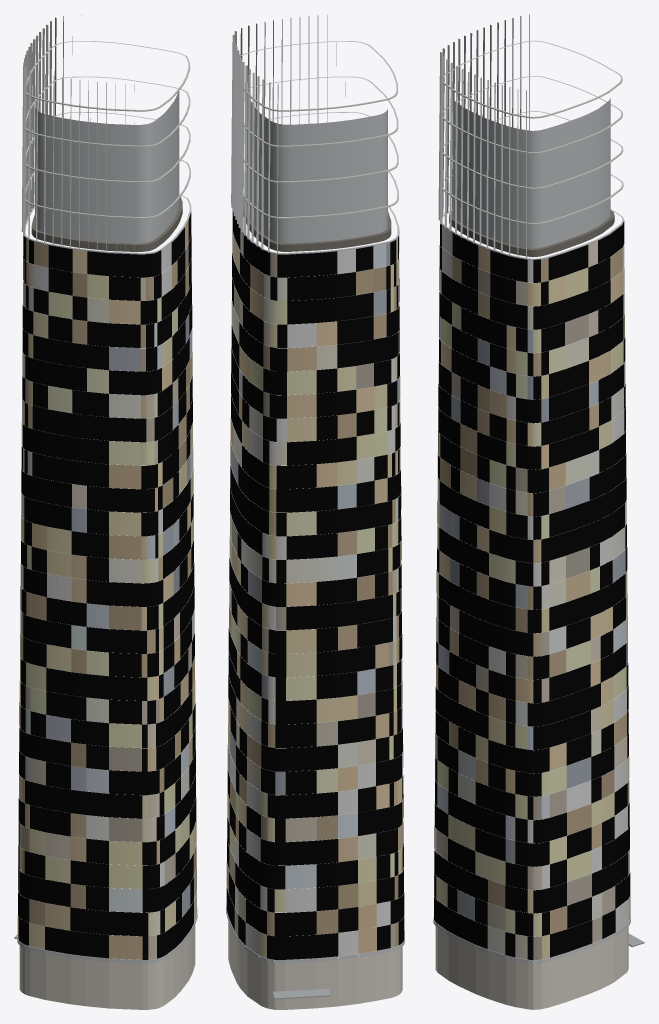
Rendered from salesforce_lod1.glb.
3 renders of one model, left to right at view 1: azimuth 30°, elevation 25°; view 2: azimuth 150°, elevation 25°; view 3: azimuth 270°, elevation 25°, orthographic.
Parts seen in each view (by area): view 1: L1_win, L1_paint, L1_shop, L1_roof; view 2: L1_win, L1_paint, L1_shop, L1_roof, L1_metal; view 3: L1_win, L1_paint, L1_shop, L1_roof.
Boxes of the visible parts, x1,y1,x2,y2 form: L1_win: (17, 212, 196, 959); L1_paint: (17, 15, 197, 963); L1_shop: (19, 925, 195, 1009); L1_roof: (31, 197, 182, 251); L1_win: (226, 212, 404, 959); L1_paint: (226, 15, 404, 963); L1_shop: (228, 922, 402, 1009); L1_roof: (243, 198, 391, 251); L1_metal: (272, 989, 330, 999); L1_win: (434, 221, 630, 960); L1_paint: (433, 14, 630, 963); L1_shop: (435, 926, 628, 1009); L1_roof: (449, 210, 614, 257).
Size of the model in its own units: 64.08 by 327 by 68.35.
